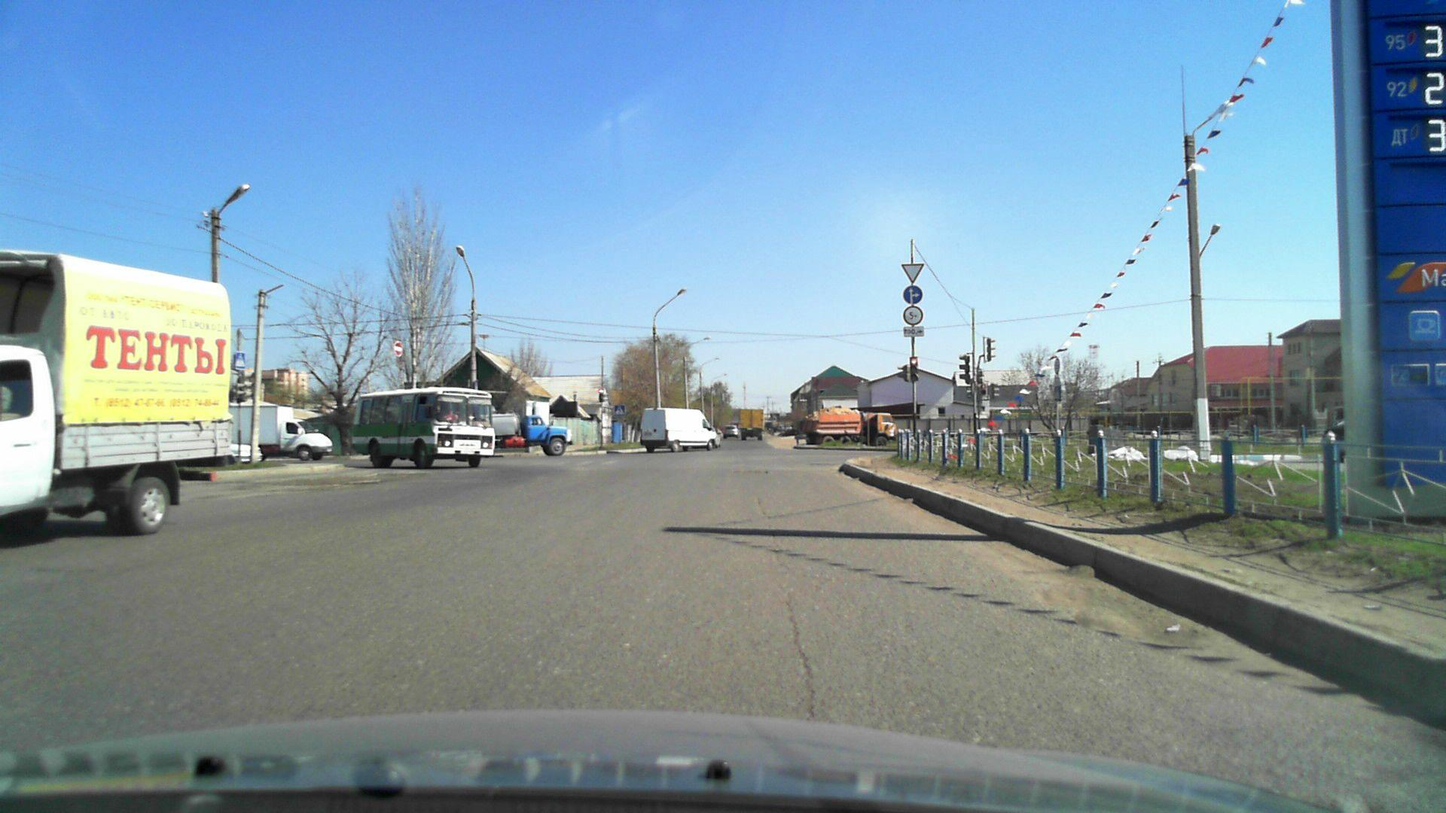off traffic light: (958, 352, 972, 385)
road_sign: (900, 263, 925, 284), (902, 285, 923, 304), (903, 306, 923, 325), (903, 325, 925, 338), (394, 340, 404, 357)
traffic light: (910, 354, 921, 384)
